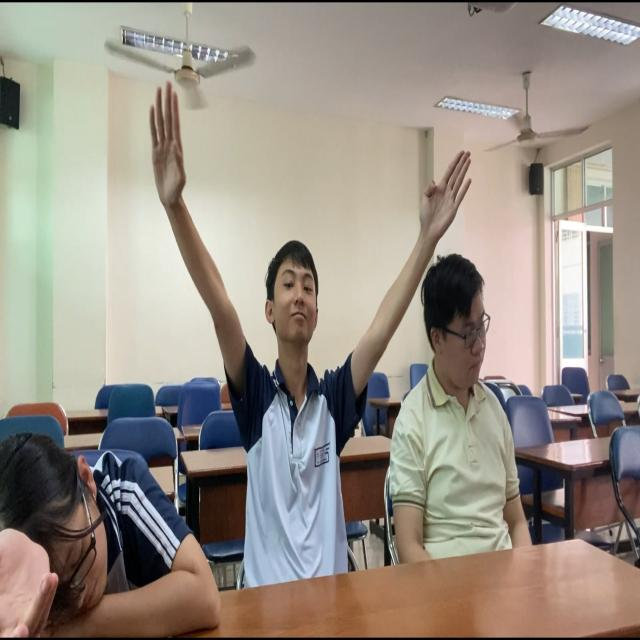sleep: (1, 434, 222, 640)
